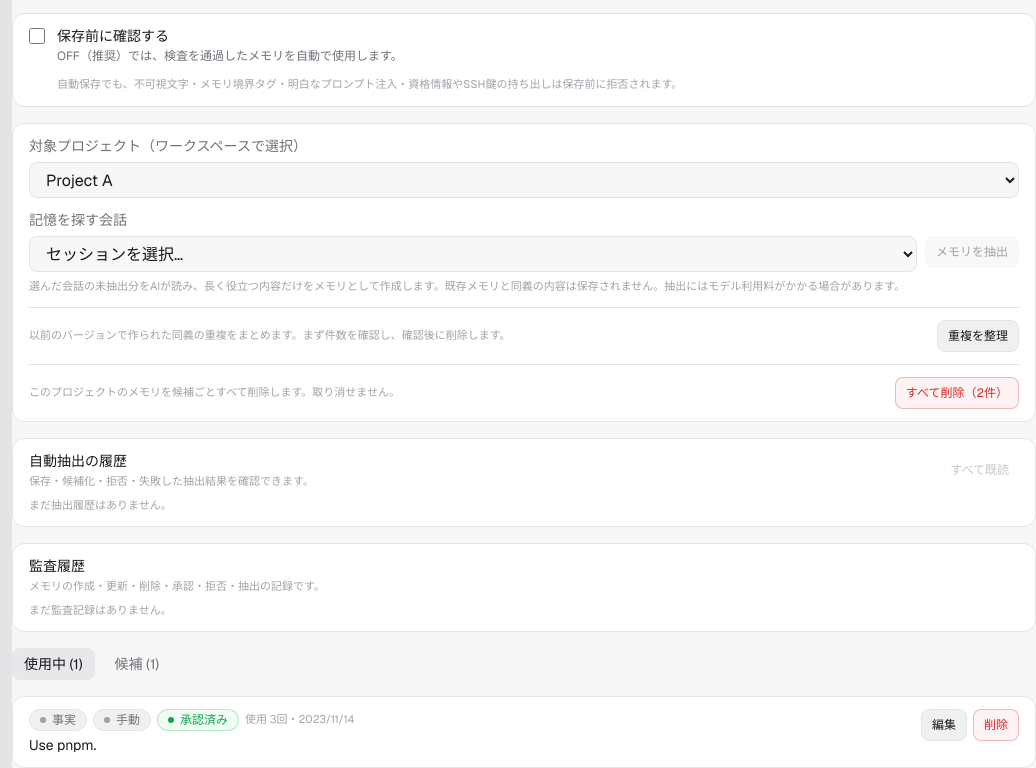
Test case: MemorySettings › lists the workspace and approved/candidate memories across tabs
The width and height of the screenshot is (1036, 768).
(page scrolled)
Expected: the checkbox named "メモリの保存前確認" is shown, [29,28,45,44]
Expected: the text "Use pnpm." is shown, [29,736,96,754]
Click the button "候補 (1)" at (137,664), box [103,648,171,680]
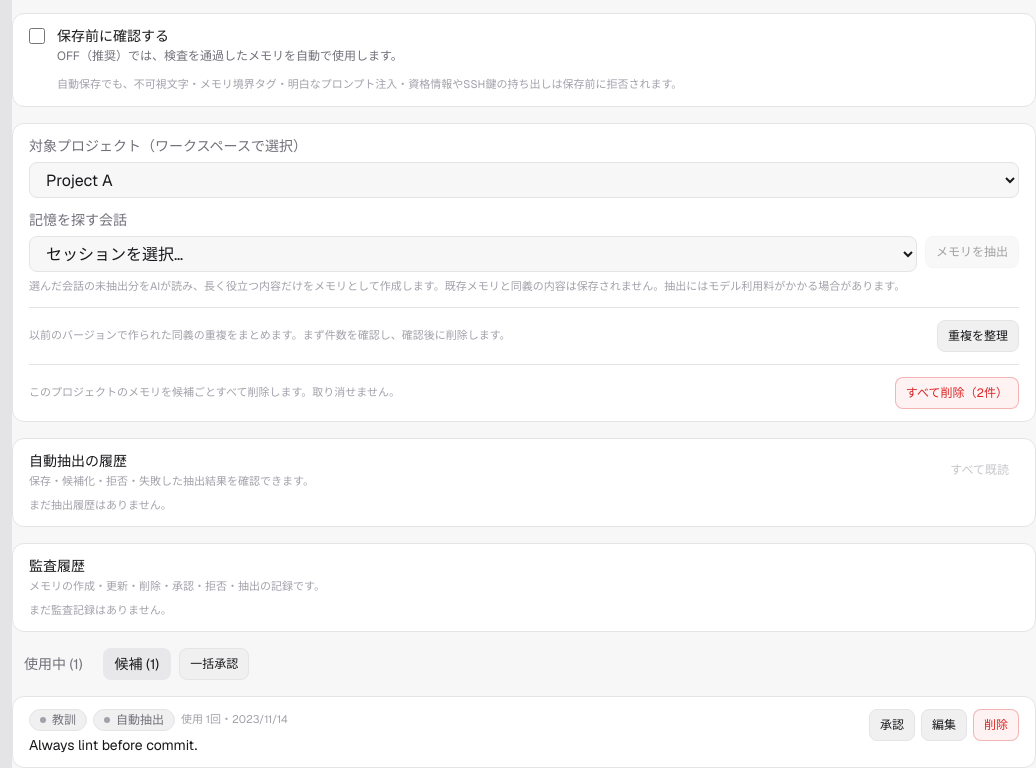
Now the text "Always lint before commit." is shown, box [29,736,197,754]
